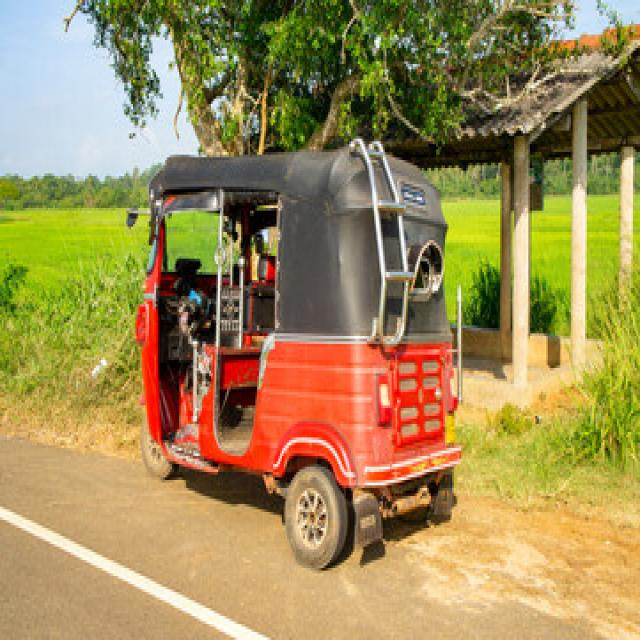three wheeler: (137, 139, 459, 571)
